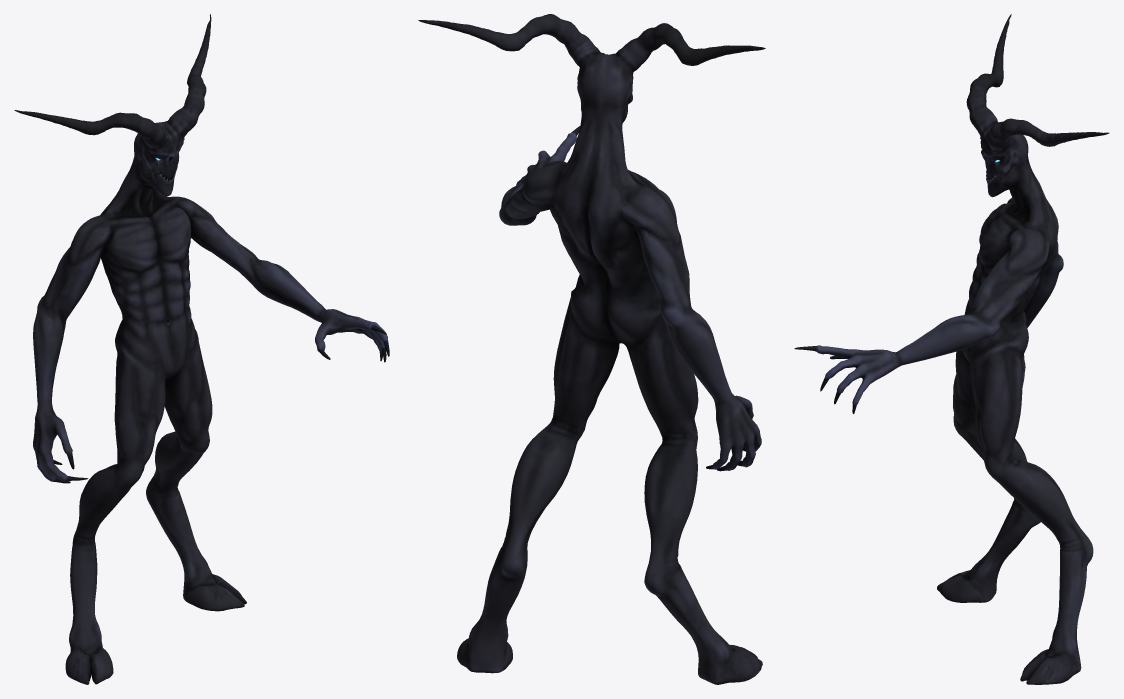
File: MZ4250 - Nightwalker.glb
3 views of the same model, side by side, from view 1: azimuth 30°, elevation 25°; view 2: azimuth 150°, elevation 25°; view 3: azimuth 270°, elevation 25° (orthographic). The views are drawn at different scales.
Visible parts, largest first — view 1: Body.002; view 2: Body.002; view 3: Body.002.
Part boxes in pixels (x1,y1,x2,y2): Body.002: [14, 14, 389, 684]; Body.002: [418, 14, 765, 684]; Body.002: [794, 14, 1109, 684].
Bounding box in the file's own units: 1.77 × 3.26 × 1.67.
1 material, 1 textured.
